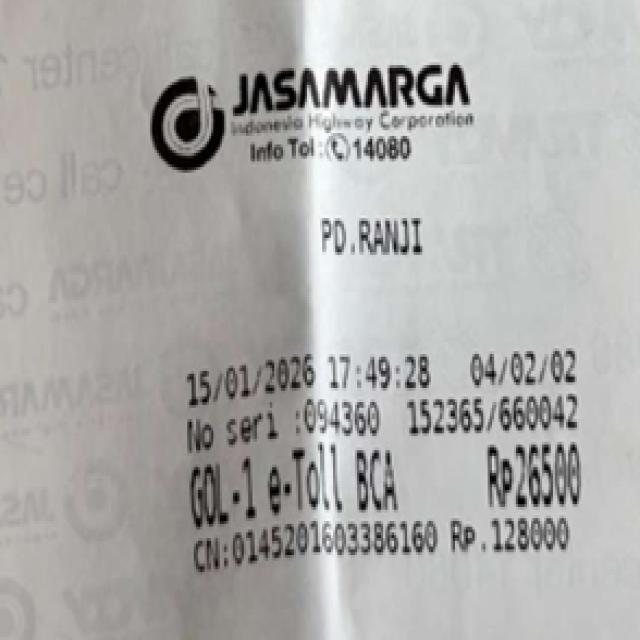date: (174, 353, 430, 401)
store: (225, 58, 505, 145)
total: (477, 439, 589, 520)
